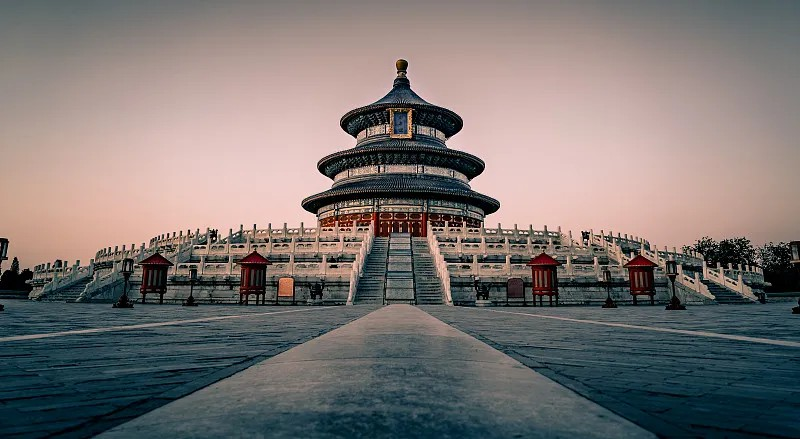Heaven: (299, 58, 501, 238)
